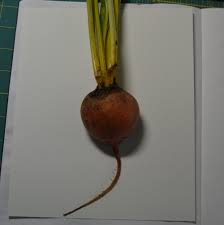beet: (64, 2, 139, 216)
